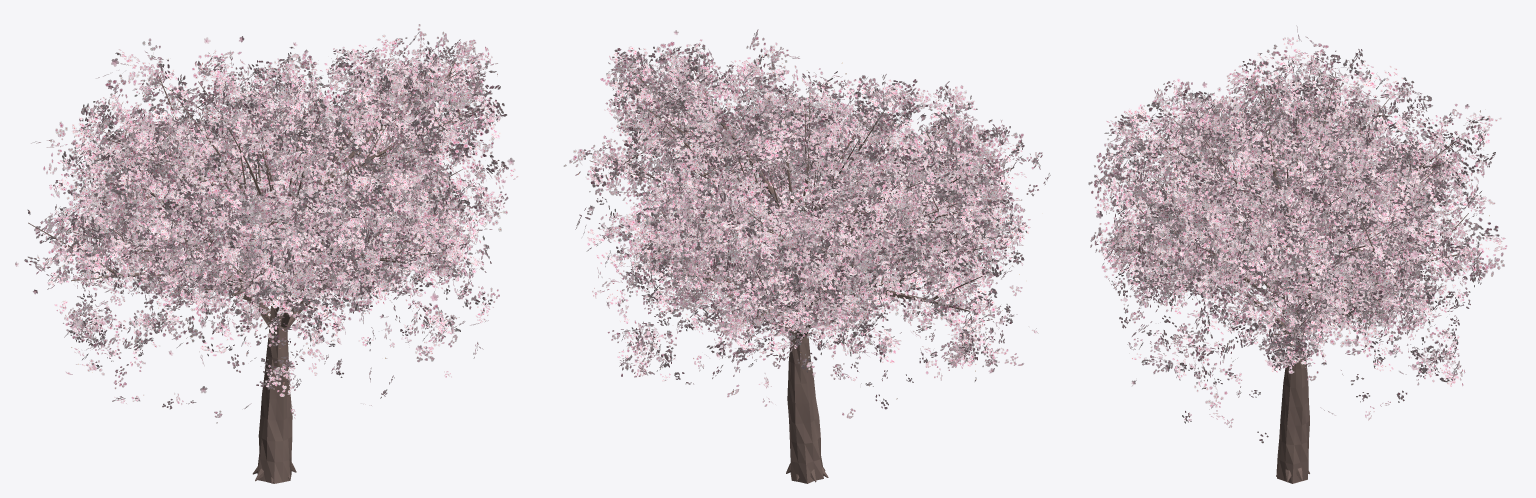
File: Sakura_Cherry_Blossom_Tree.glb
3 views of the same model, side by side, from view 1: azimuth 30°, elevation 25°; view 2: azimuth 150°, elevation 25°; view 3: azimuth 270°, elevation 25° (orthographic). The views are drawn at different scales.
Visible parts, largest first — view 1: Pink_Blossom_Sprays, Bark_And_Branches, Individual_Five_Petal_Flowers; view 2: Pink_Blossom_Sprays, Bark_And_Branches, Individual_Five_Petal_Flowers; view 3: Pink_Blossom_Sprays, Bark_And_Branches, Individual_Five_Petal_Flowers.
Boxes of the visible parts, x1,y1,x2,y2 form: Pink_Blossom_Sprays: (24, 24, 518, 423); Bark_And_Branches: (28, 54, 484, 483); Individual_Five_Petal_Flowers: (15, 36, 516, 415); Pink_Blossom_Sprays: (563, 29, 1050, 418); Bark_And_Branches: (589, 64, 1009, 483); Individual_Five_Petal_Flowers: (575, 30, 1036, 399); Pink_Blossom_Sprays: (1088, 25, 1507, 443); Bark_And_Branches: (1117, 72, 1468, 483); Individual_Five_Petal_Flowers: (1090, 53, 1489, 416).
Size of the model in its own units: 5.21 by 4.56 by 4.56.
Materials: 1 (1 with a texture image).
